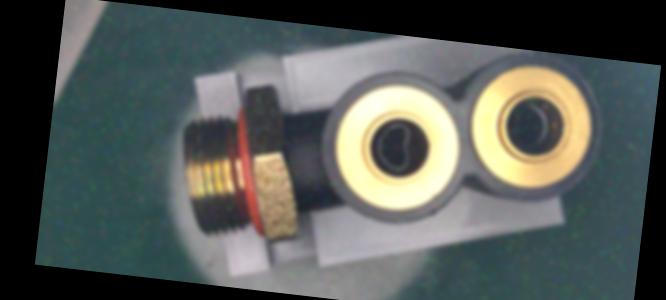off-centered: (497, 95, 554, 158), (364, 116, 419, 174)
